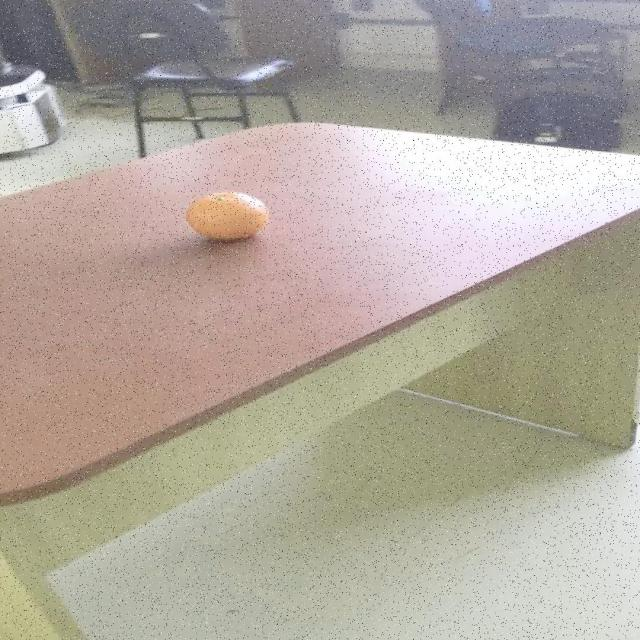Orange: (186, 191, 271, 239)
